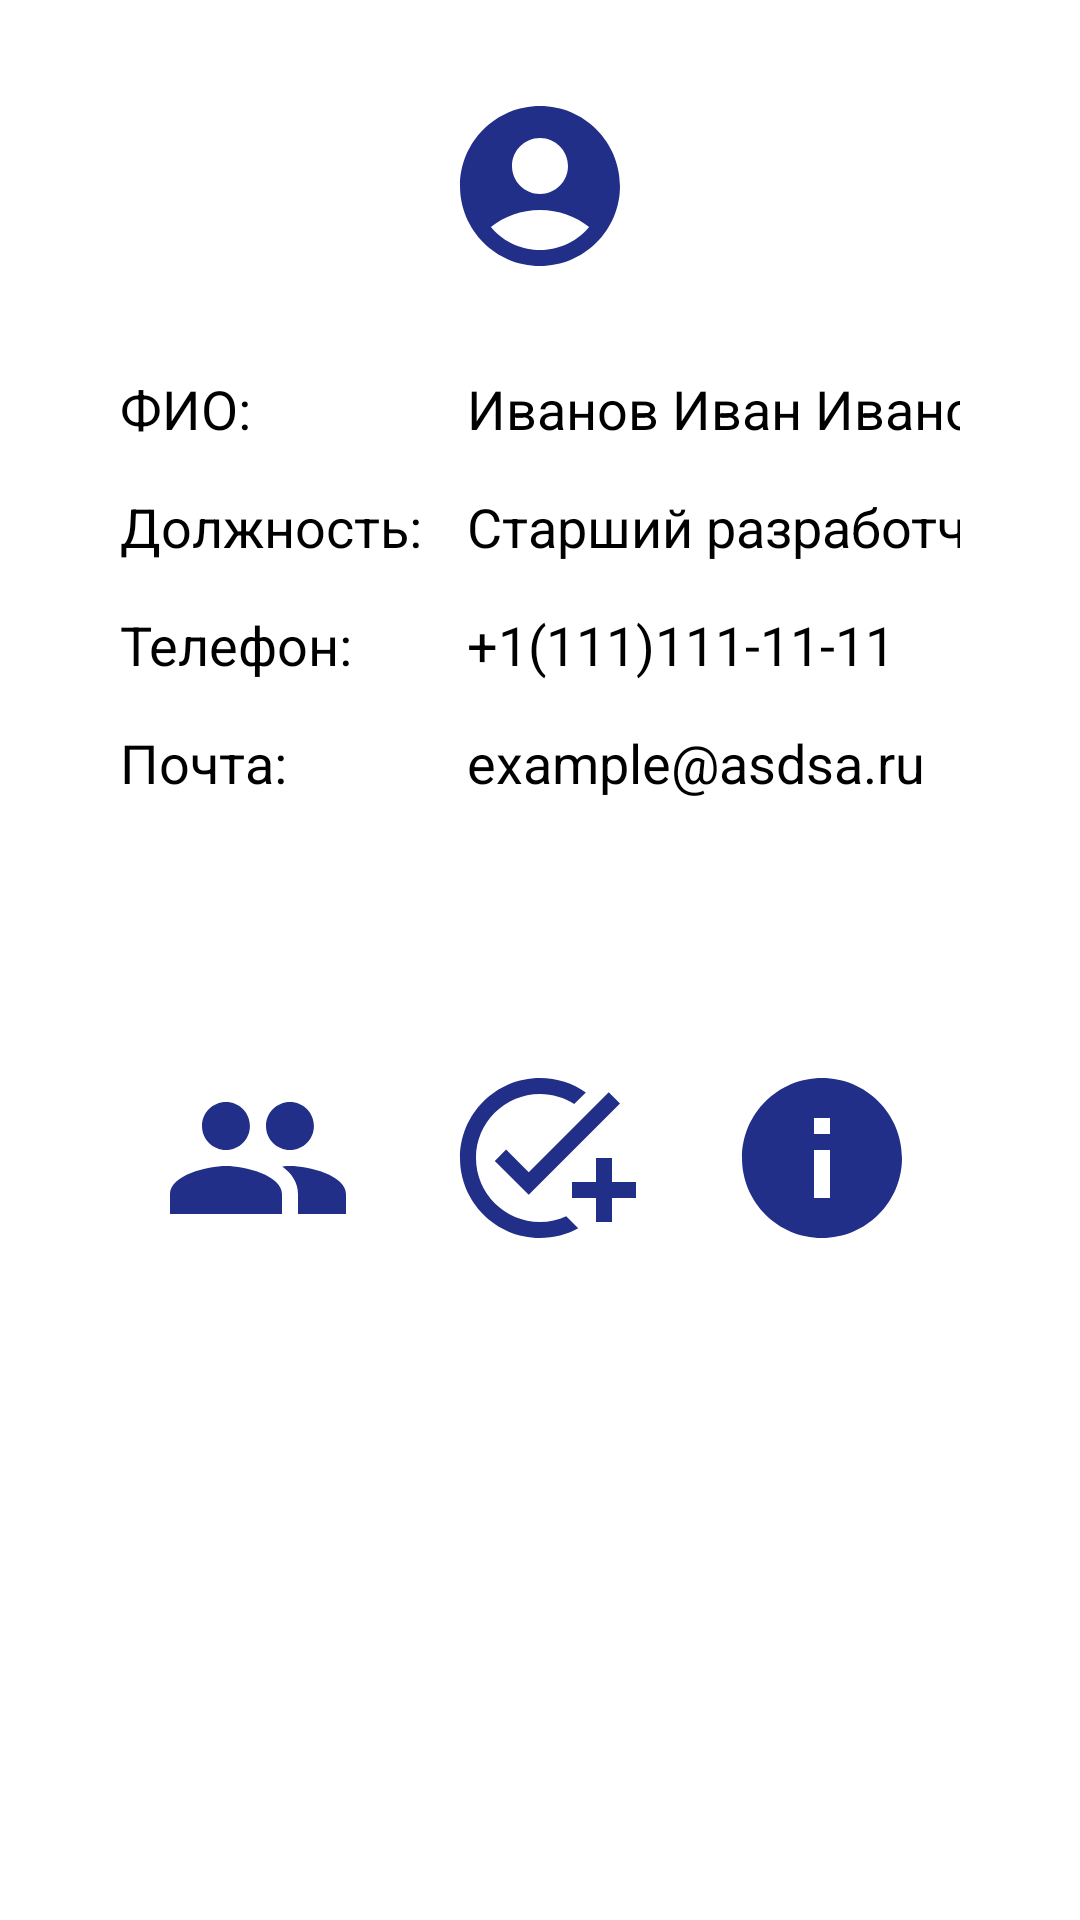

Locate icon controls on the screen. Image size 1080×1920, boxes as bbox(x1, y1, x2, y2).
add task: bbox(460, 1078, 636, 1238)
info: bbox(742, 1078, 902, 1238)
people: bbox(170, 1102, 346, 1214)
profile: bbox(460, 106, 620, 266)
